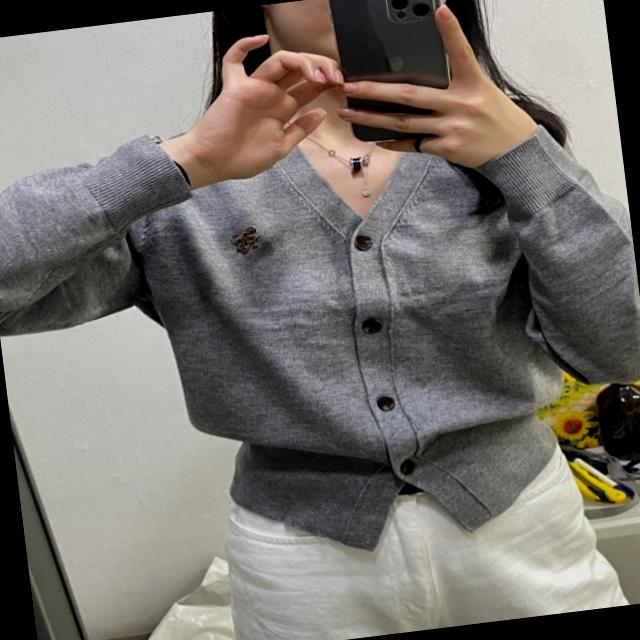cardigan: (0, 77, 640, 591)
cottonpants: (217, 431, 640, 640)
